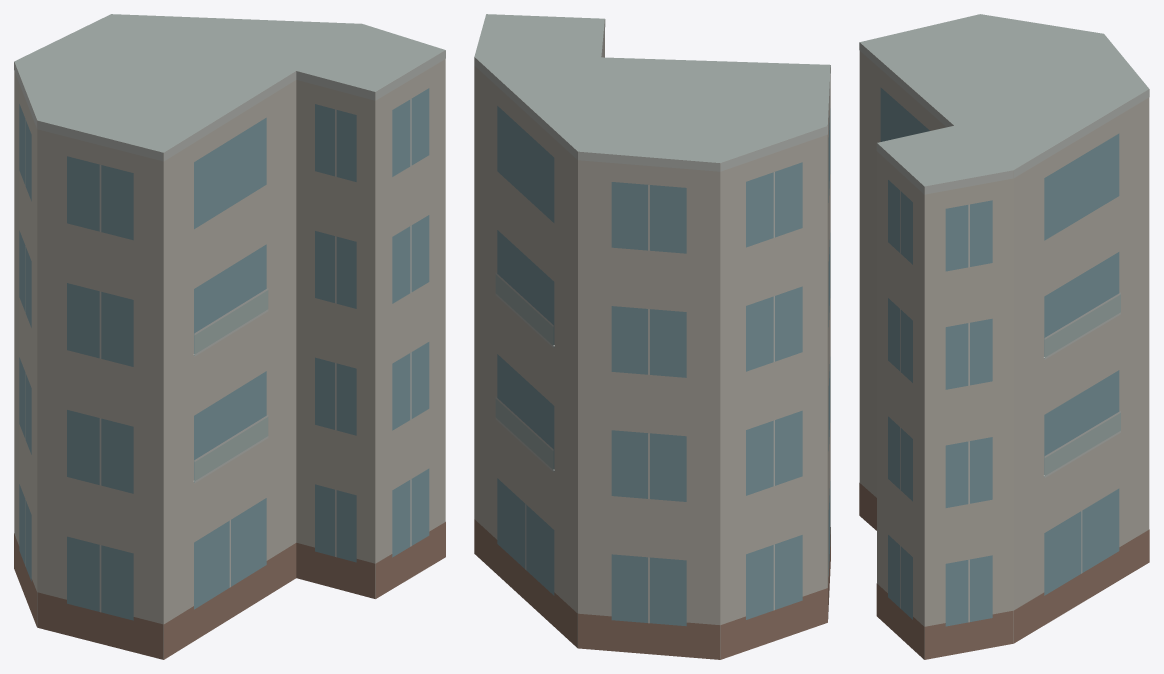
The model's file is survey-upis-32456980.glb.
3 renders of one model, left to right at view 1: azimuth 30°, elevation 25°; view 2: azimuth 150°, elevation 25°; view 3: azimuth 270°, elevation 25°, orthographic. The views are drawn at different scales.
Parts seen in each view (by area): view 1: survey-upis-32456980.tmp; view 2: survey-upis-32456980.tmp; view 3: survey-upis-32456980.tmp.
Boxes of the visible parts, box(x1,y1,x2,y2) form: survey-upis-32456980.tmp: box(14, 14, 445, 659); survey-upis-32456980.tmp: box(474, 14, 830, 659); survey-upis-32456980.tmp: box(859, 14, 1149, 659).
Bounding box in the file's own units: 11.03 × 14.1 × 7.84.
